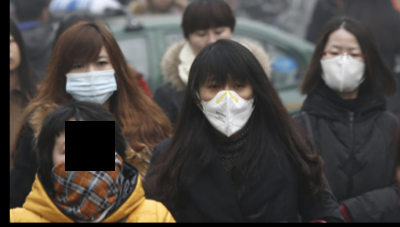with_mask: (49, 132, 118, 213), (198, 73, 255, 135), (63, 52, 120, 107), (320, 43, 367, 93)
without_mask: (191, 27, 230, 55)
